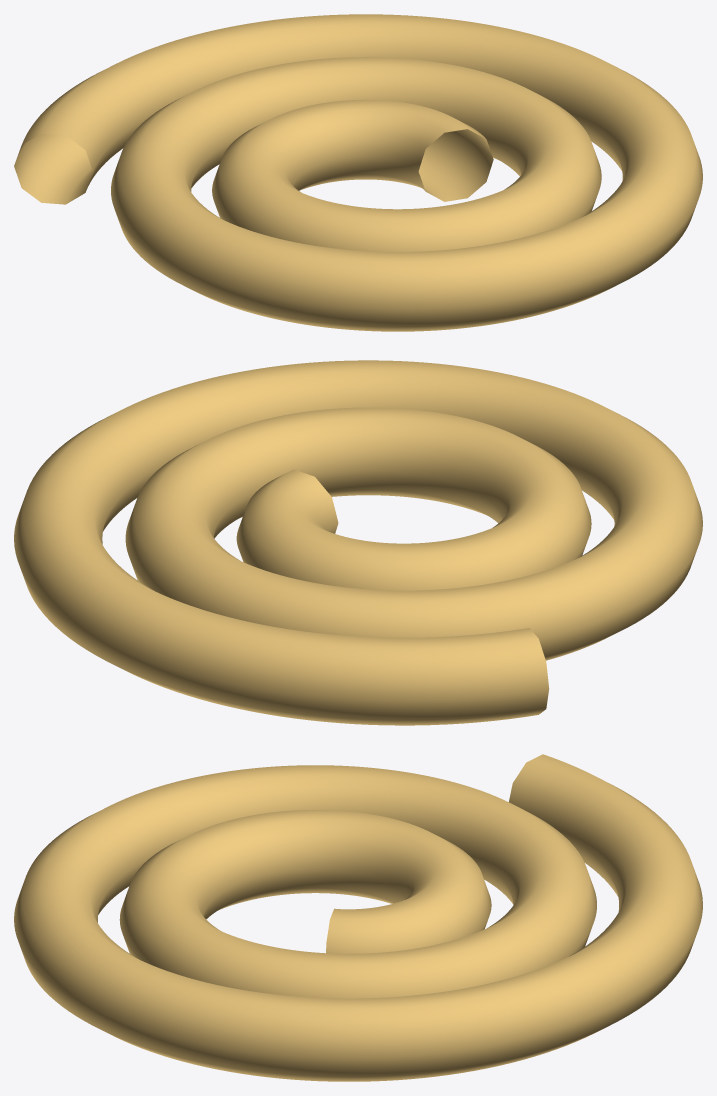
Rendered from spacer-20-gold.glb.
3 renders of one model, top to bottom at view 1: azimuth 30°, elevation 25°; view 2: azimuth 150°, elevation 25°; view 3: azimuth 270°, elevation 25°, orthographic. The views are drawn at different scales.
Parts seen in each view (by area): view 1: Wire detail.094; view 2: Wire detail.094; view 3: Wire detail.094.
Part boxes in pixels (x1,y1,x2,y2): Wire detail.094: (14, 14, 702, 331); Wire detail.094: (14, 360, 702, 725); Wire detail.094: (14, 754, 702, 1081).
Bounding box in the file's own units: 0.00437 × 0.000533 × 0.0046.
